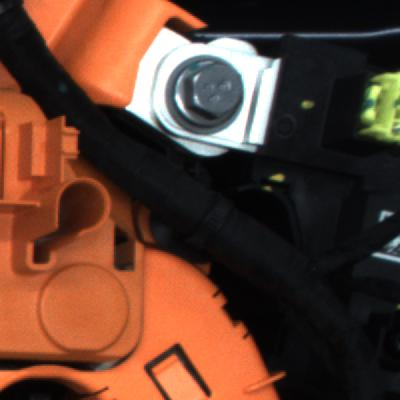nut_b: (163, 48, 255, 131)
